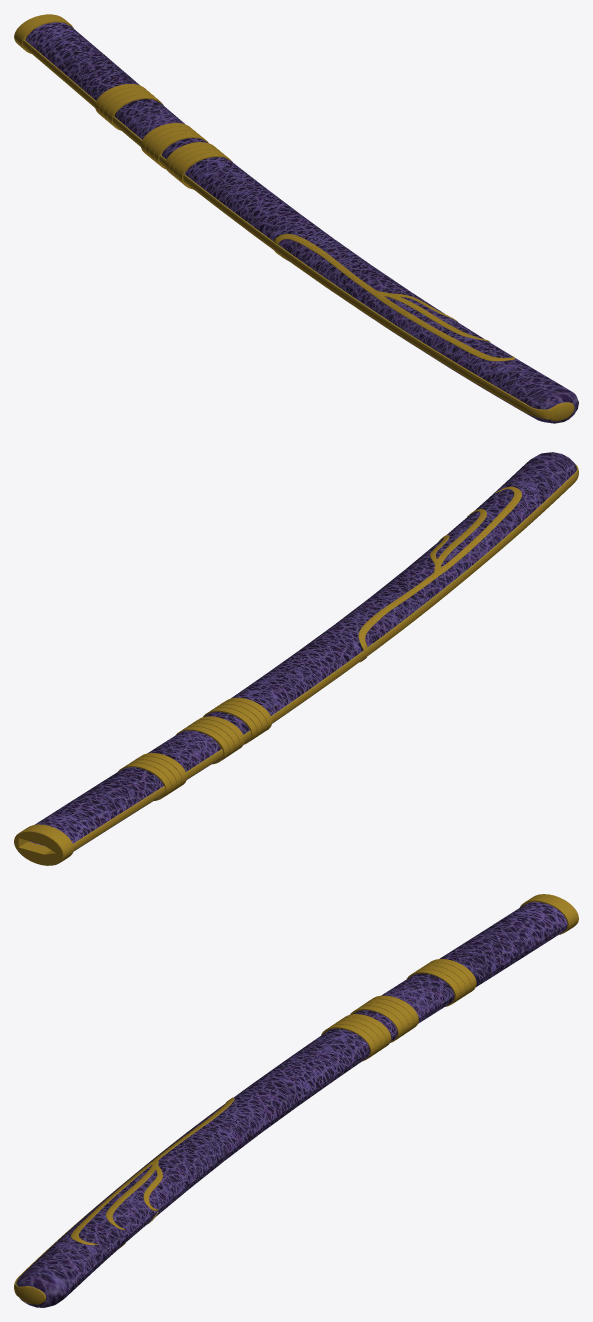
Rendered from mythical-scabbard.glb.
3 views of the same model, one above another, from view 1: azimuth 30°, elevation 25°; view 2: azimuth 150°, elevation 25°; view 3: azimuth 330°, elevation 25° (orthographic).
Visible parts, largest first — view 1: katana cover.002_Material.005_0, katana cover.002_Scratched Gold.002_0; view 2: katana cover.002_Material.005_0, katana cover.002_Scratched Gold.002_0; view 3: katana cover.002_Material.005_0, katana cover.002_Scratched Gold.002_0.
Part boxes in pixels (x1=…): katana cover.002_Material.005_0: x1=25, y1=22, x2=578, y2=423; katana cover.002_Scratched Gold.002_0: x1=14, y1=14, x2=574, y2=421; katana cover.002_Material.005_0: x1=30, y1=452, x2=576, y2=851; katana cover.002_Scratched Gold.002_0: x1=14, y1=464, x2=578, y2=865; katana cover.002_Material.005_0: x1=16, y1=902, x2=567, y2=1307; katana cover.002_Scratched Gold.002_0: x1=14, y1=894, x2=578, y2=1304.
Bounding box in the file's own units: 0.0811 × 0.0348 × 1.02.
2 materials, 2 textured.
